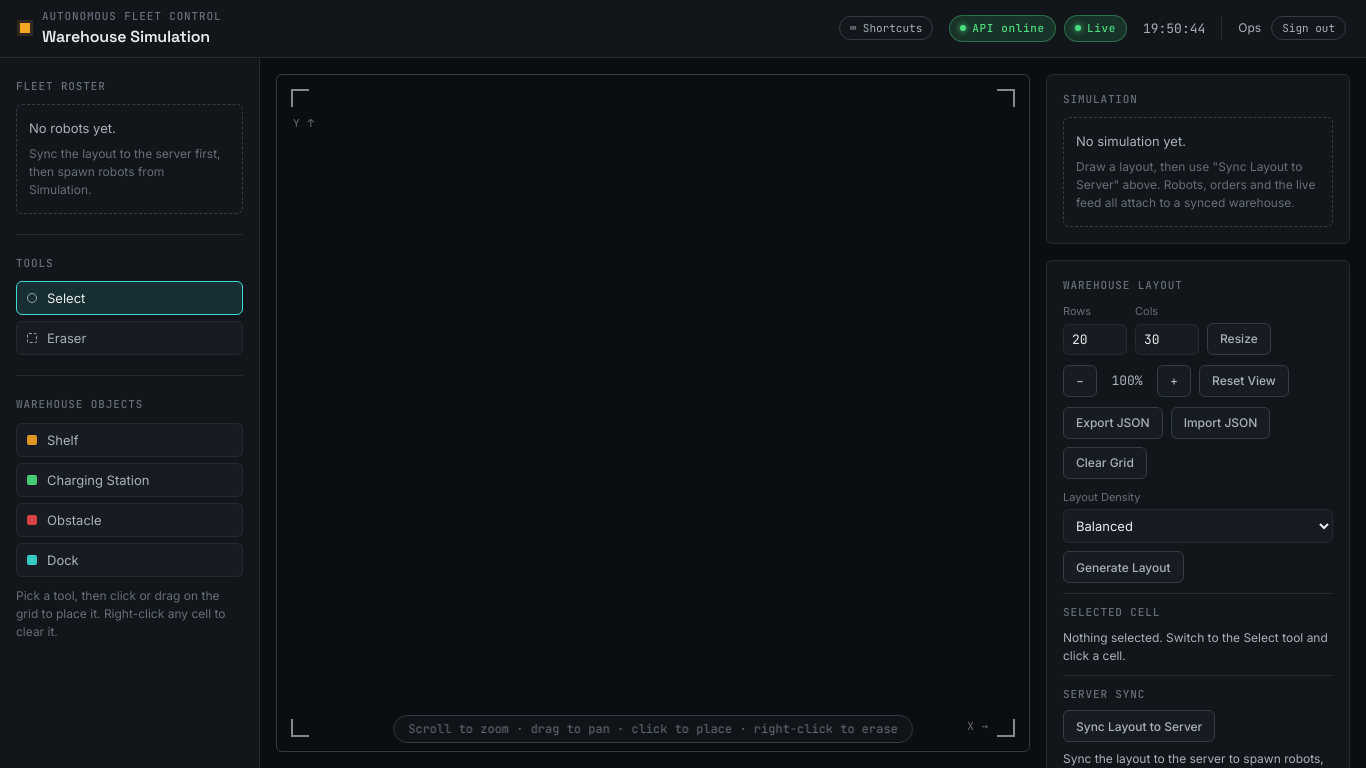
Test: logout › signs out, closes the live connection, and returns to the gate
The width and height of the screenshot is (1366, 768).
Check: the button "Sync Layout to Server" is shown, box [1063, 710, 1215, 742]
Step 1. Click the button "Sign out" → (1309, 28), box [1271, 16, 1346, 40]
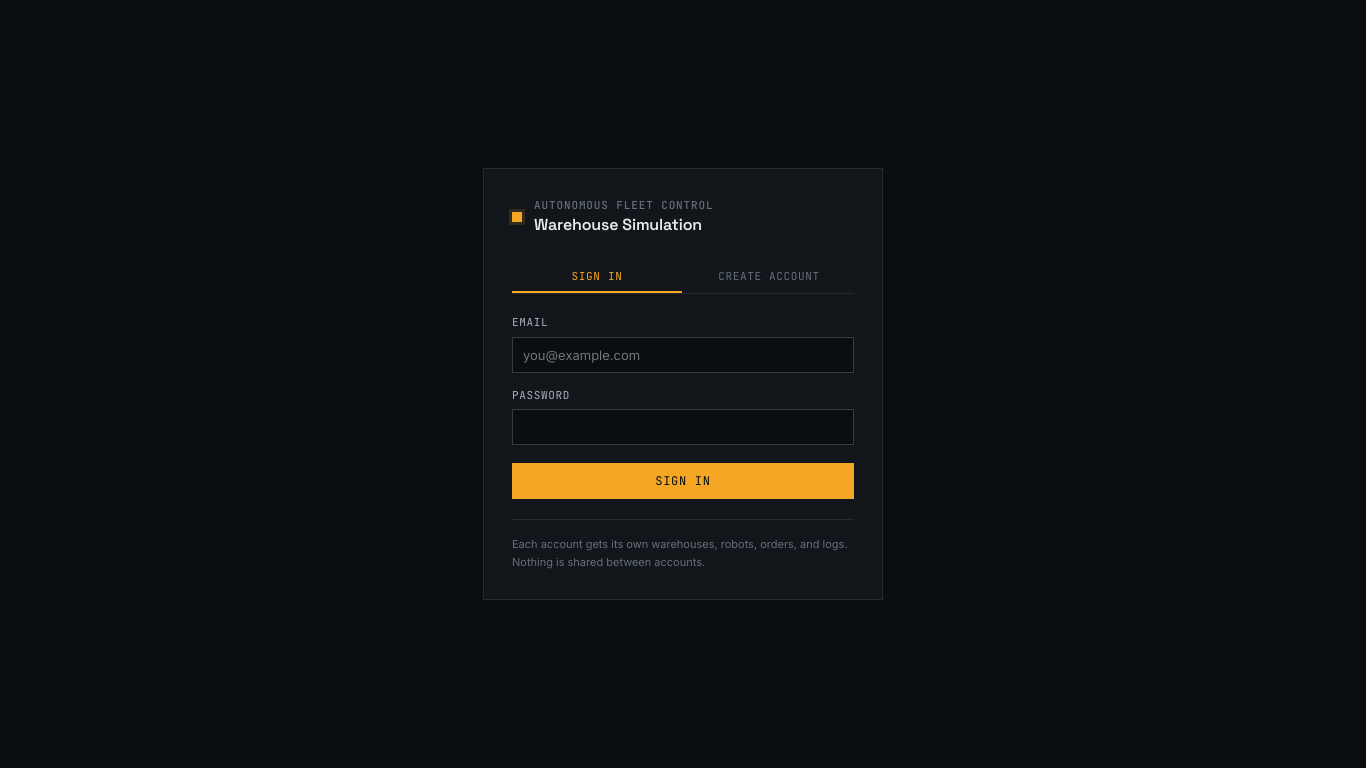
Check: the button "Sign in" below "Password" is shown, box [512, 463, 854, 499]
